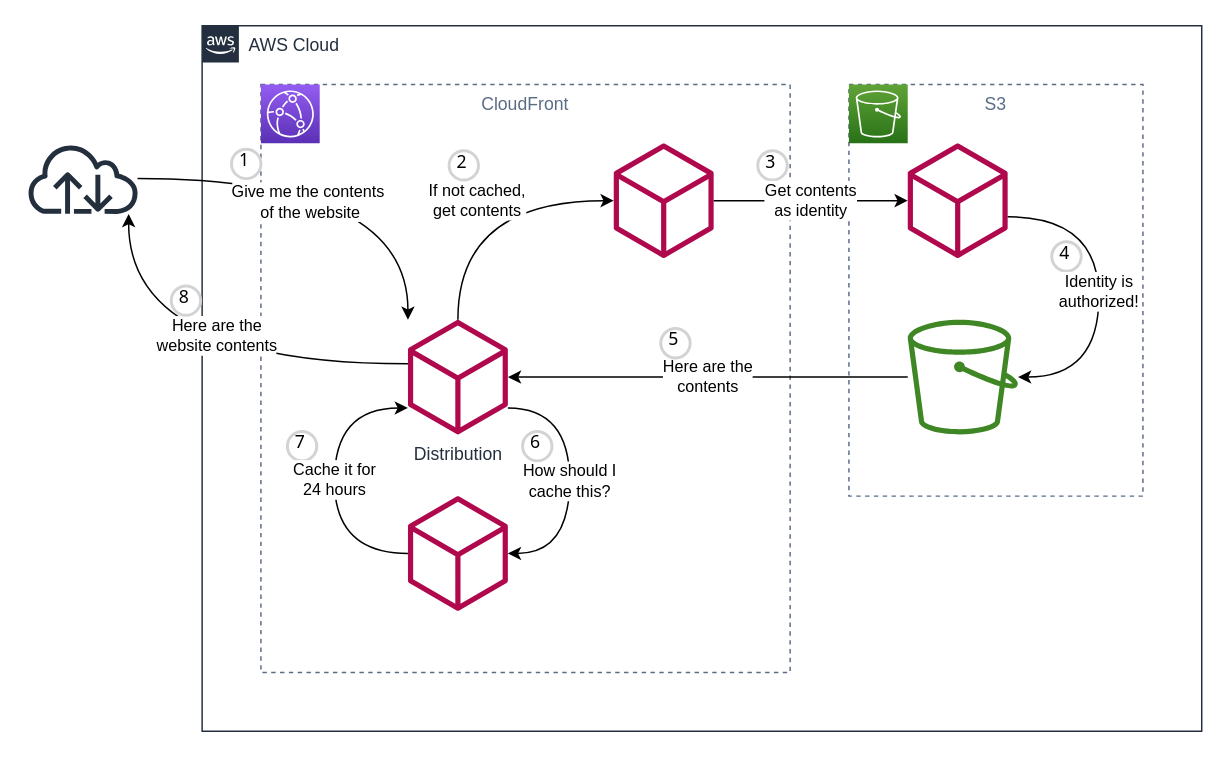
The diagram is 1227 pixels wide and 757 high, and some of its shapes have lost their labels. Here are the shapes that lost their labels. From the top down, the centre of each, then its label:
point 82,178: internet
point 663,200: CloudFrontOriginAccessIdentity
point 957,200: BucketPolicy
point 962,376: Bucket
point 457,552: CachePolicy
